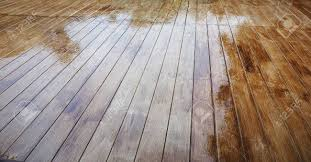Wet-floor: (5, 16, 262, 162)
